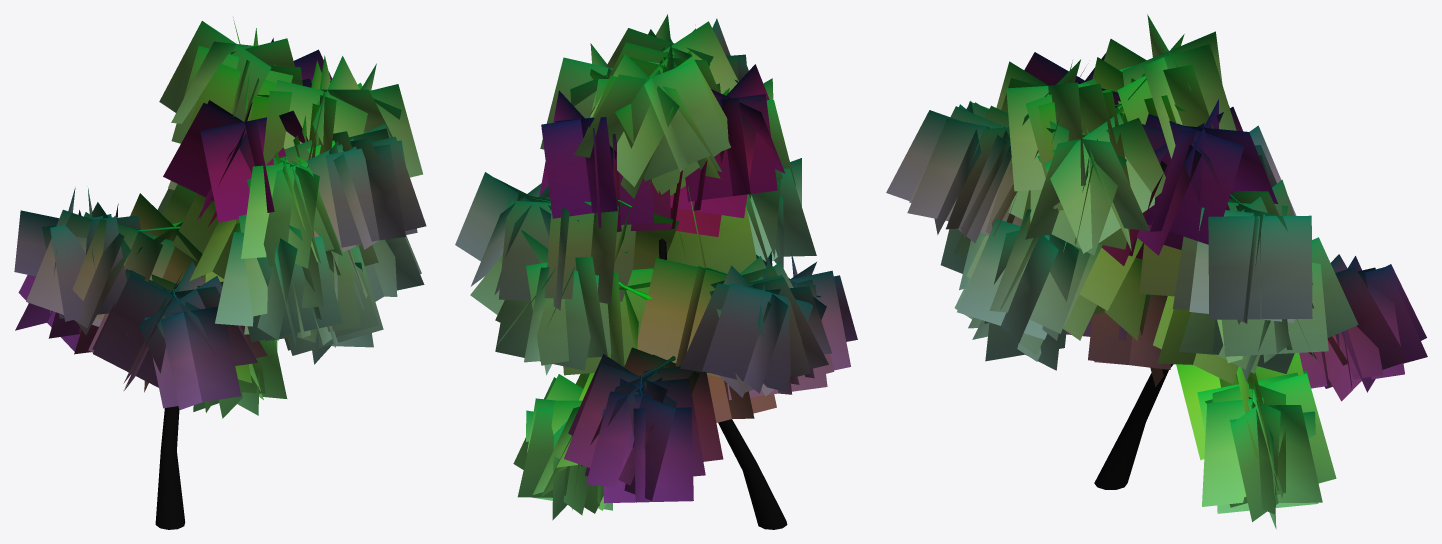
Rendered from URP_P13_Tree_4_LOD_2.fbx.
The picture shows the model from 3 angles, left to right: view 1: azimuth 30°, elevation 25°; view 2: azimuth 150°, elevation 25°; view 3: azimuth 270°, elevation 25°; orthographic projection. The views are drawn at different scales.
Visible parts, largest first — view 1: Tree_4_LOD_2; view 2: Tree_4_LOD_2; view 3: Tree_4_LOD_2.
Part boxes in pixels (x1,y1,x2,y2): Tree_4_LOD_2: [14, 17, 426, 529]; Tree_4_LOD_2: [455, 14, 857, 529]; Tree_4_LOD_2: [886, 14, 1427, 529].
Size of the model in its own units: 441 by 556 by 544.
